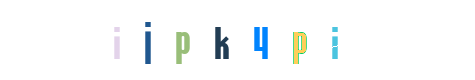4: (221, 0, 301, 80)
I: (143, 0, 223, 80), (266, 0, 346, 80)
J: (152, 0, 232, 80)
K: (197, 0, 277, 80)
P: (188, 0, 268, 80), (259, 0, 339, 80)
